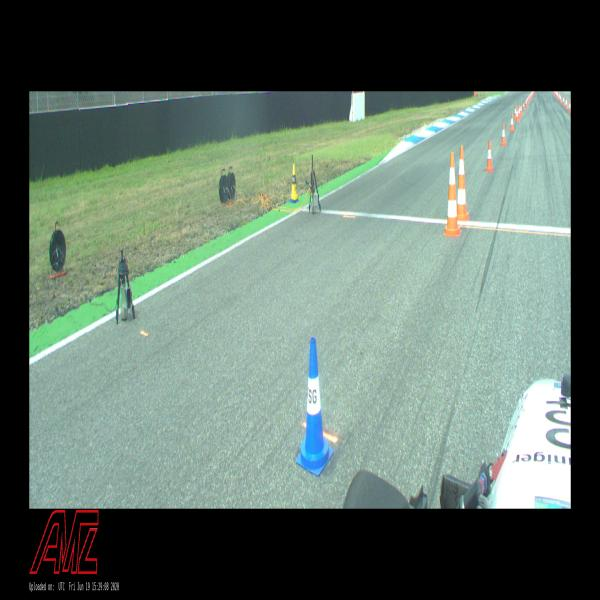blue_cone: (296, 336, 334, 476)
large_orange_cone: (443, 152, 462, 237), (457, 146, 470, 228)
orange_cone: (485, 141, 494, 172), (500, 123, 507, 146), (510, 113, 514, 132), (516, 108, 519, 123), (568, 99, 571, 114), (520, 102, 523, 116), (565, 97, 568, 110), (514, 105, 517, 117), (518, 106, 520, 118), (523, 99, 525, 110), (563, 95, 565, 105), (560, 93, 562, 103), (526, 97, 528, 107)
yellow_cone: (290, 163, 299, 200)
